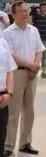boots: (0, 110, 10, 120), (0, 111, 6, 121)
ppe-suit: (0, 21, 45, 152)
